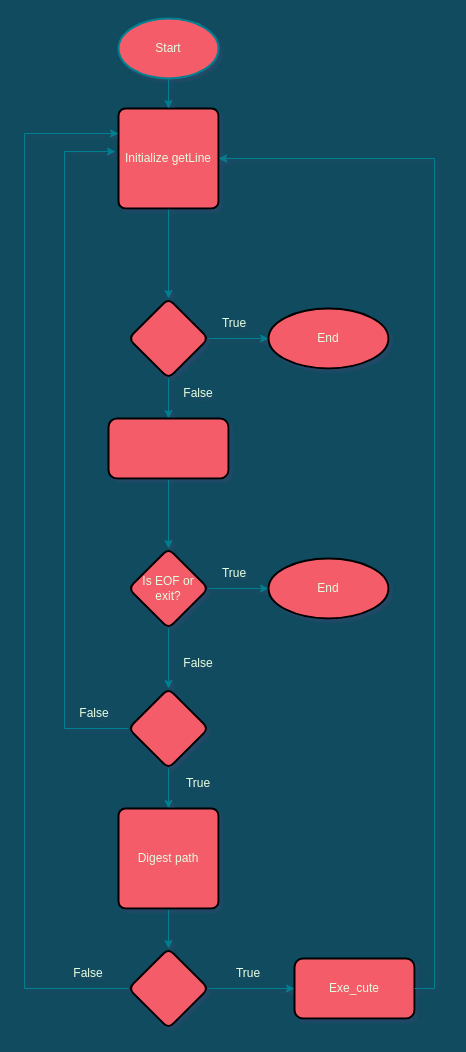
Some shapes in this 466 by 1052 pixel diagram are drawn without their labels. The centre of each missing label's shape, as x and y in pixels:
Do you have the right?: point (168, 988)
Is EOF?: point (168, 338)
Read input: point (168, 448)
Valid command?: point (168, 728)
